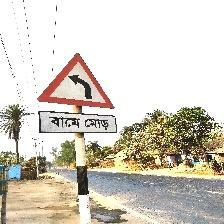Left-Turn: (36, 53, 117, 138)
